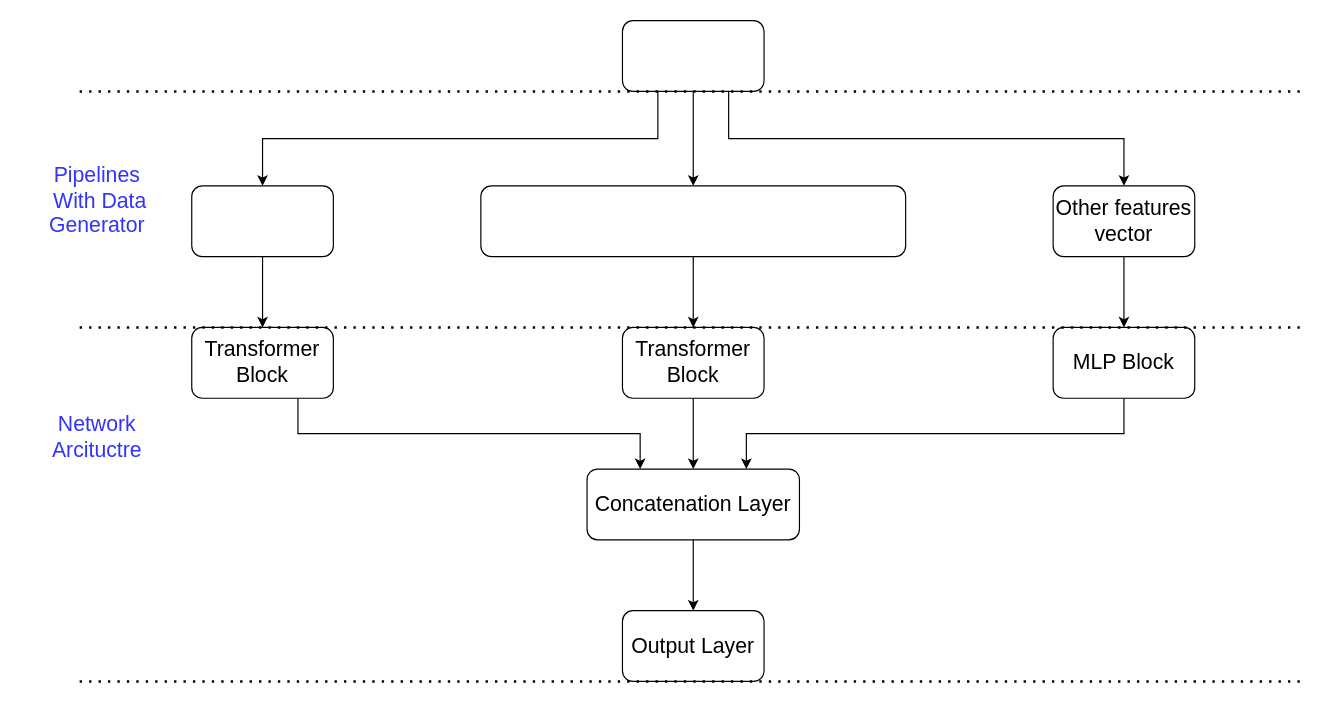
This 1329x704 diagram has some shape labels left out. Each missing label, with the centre of its shape:
"brand+name sequance" goes at [262,221].
"DataFrame" goes at [692,55].
"item_cond+brand+ship+description sequance" goes at [693,221].
